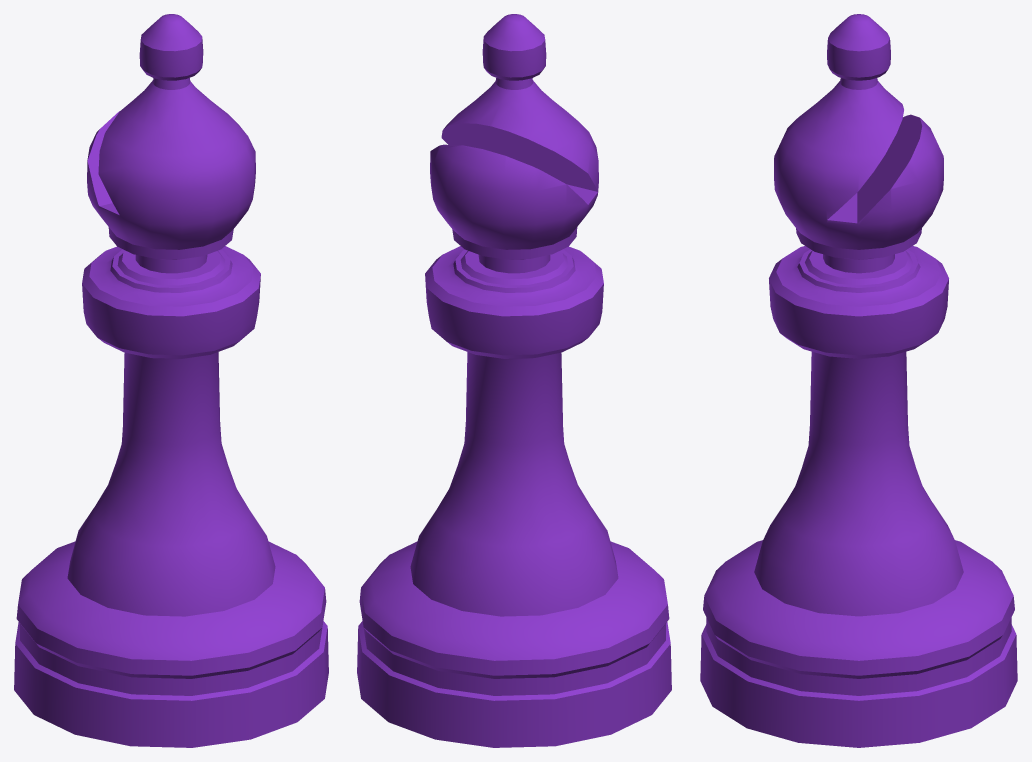
The model's file is bishop.obj.
3 views of the same model, side by side, from view 1: azimuth 30°, elevation 25°; view 2: azimuth 150°, elevation 25°; view 3: azimuth 270°, elevation 25° (orthographic).
Parts seen in each view (by area): view 1: BISHOP; view 2: BISHOP; view 3: BISHOP.
Part boxes in pixels (x1,y1,x2,y2): BISHOP: (14, 14, 328, 747); BISHOP: (357, 14, 671, 747); BISHOP: (700, 14, 1017, 747).
Size of the model in its own units: 0.5539 by 1.28 by 0.554.
